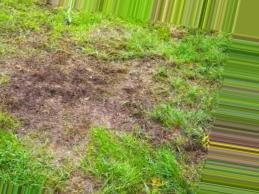patch: (50, 52, 124, 89), (33, 99, 113, 133), (12, 56, 42, 84), (119, 100, 139, 127), (147, 118, 164, 139), (70, 175, 95, 189), (135, 61, 149, 84), (54, 141, 80, 153), (10, 96, 26, 113), (159, 55, 164, 68)
